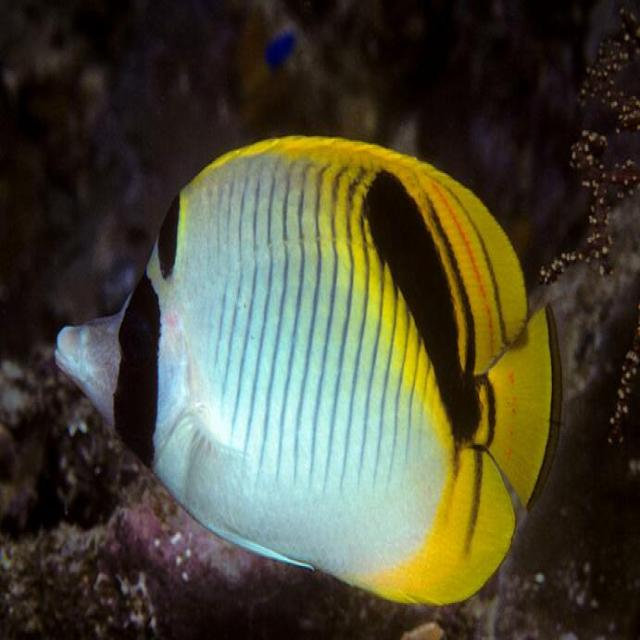ButterflyFish: (59, 133, 558, 615)
